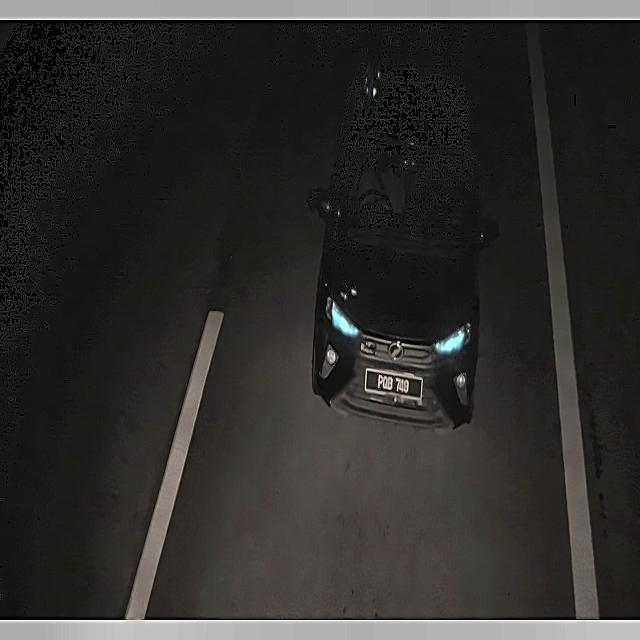car: (362, 364, 428, 407)
